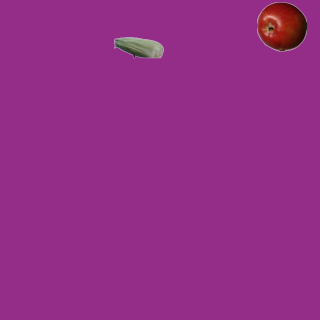Apple Braeburn: (256, 1, 306, 51)
Corn Husk: (113, 22, 163, 72)
